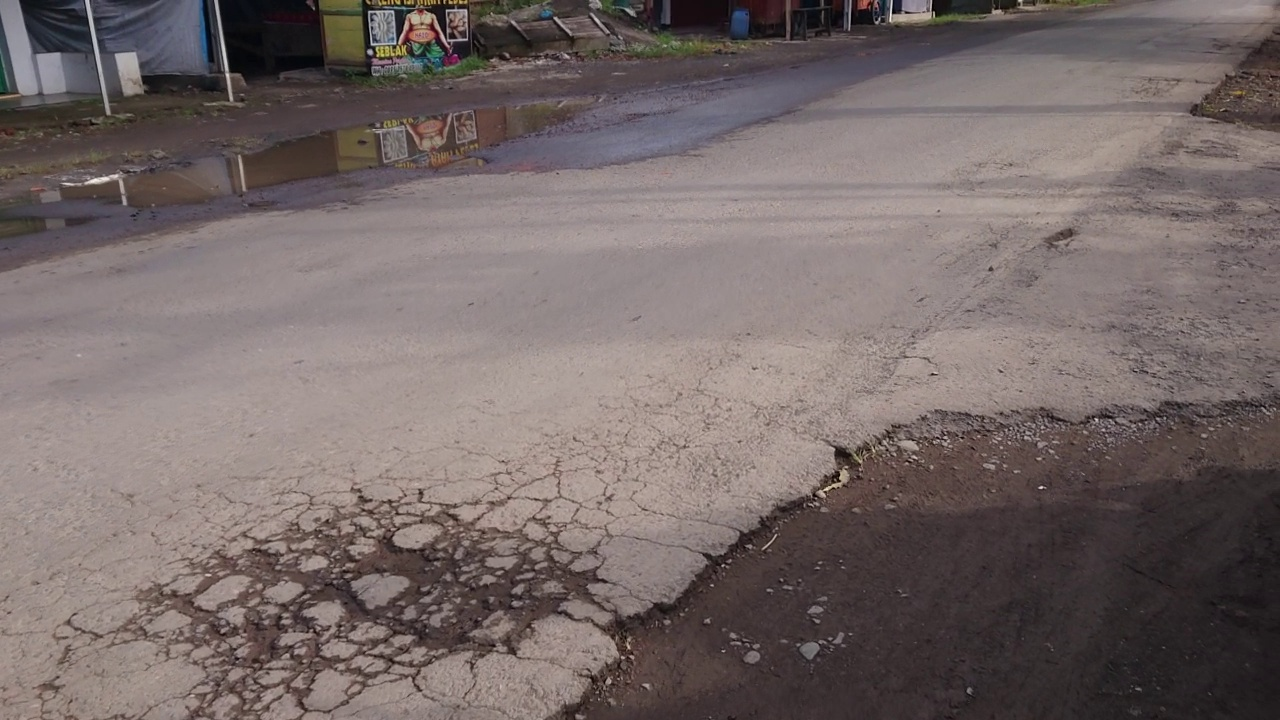Retak: (168, 462, 585, 712), (1129, 269, 1243, 422)
